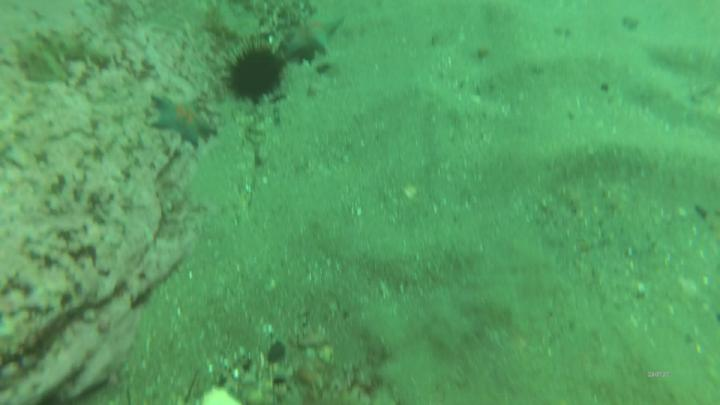echinus: (225, 44, 289, 106)
holothurian: (9, 29, 114, 84)
starfish: (146, 88, 219, 150), (280, 12, 346, 57)
